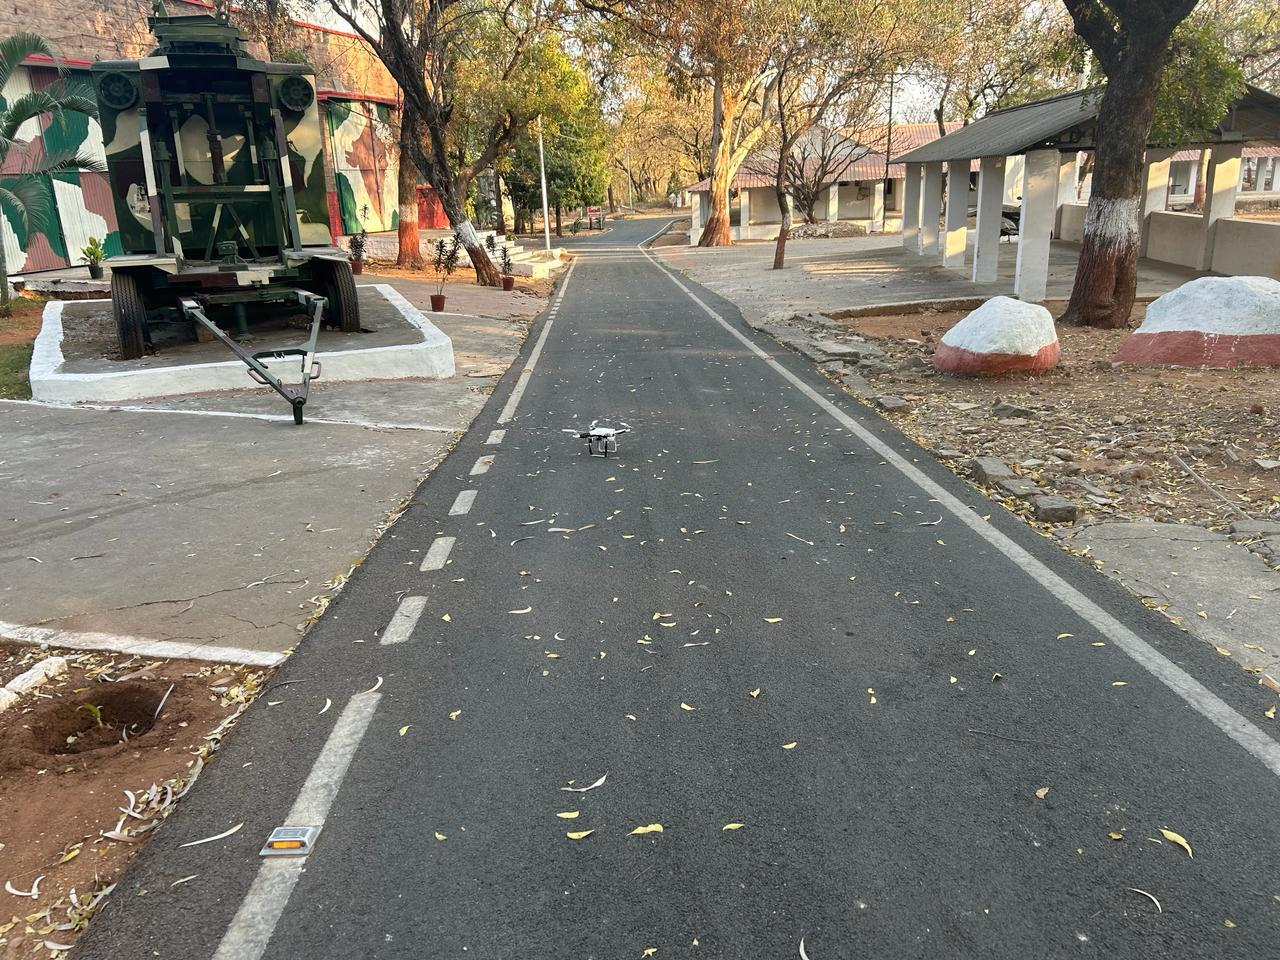drone: (548, 380, 652, 489)
